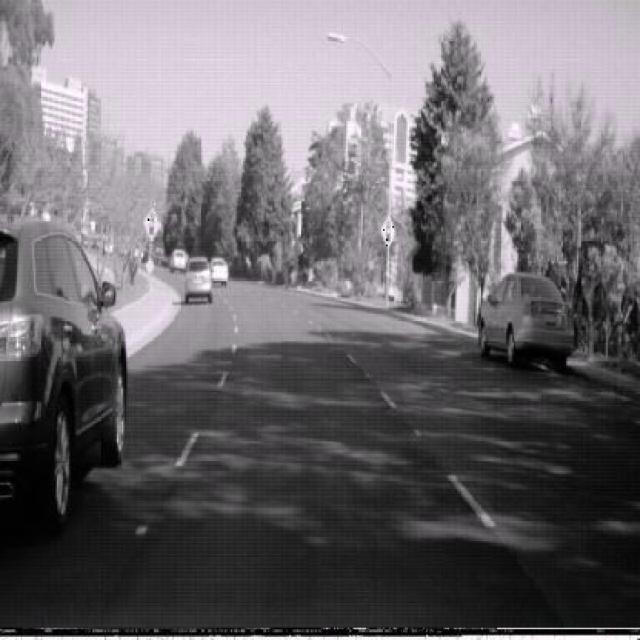signalAhead: (143, 203, 162, 241), (380, 211, 395, 249)
